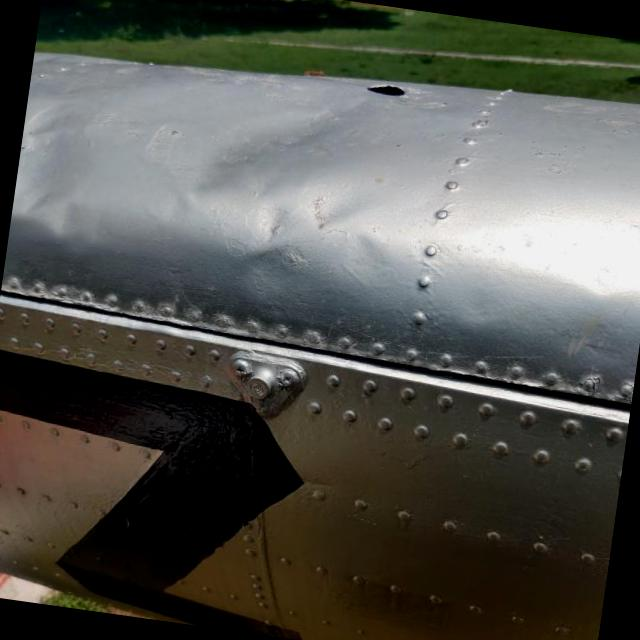dent: (146, 56, 363, 251), (6, 154, 108, 271), (235, 238, 311, 312)
